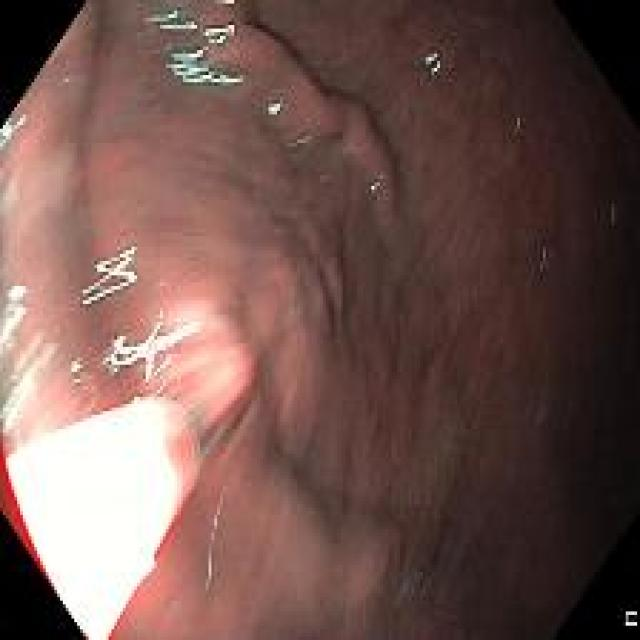blur: (3, 4, 561, 637)
color misalignment: (624, 610, 638, 626)
contrast: (582, 66, 634, 584), (488, 539, 635, 637)
instrument: (1, 354, 259, 640)
saturation: (5, 392, 178, 638)
specularity: (103, 311, 202, 383), (82, 246, 137, 306), (166, 50, 245, 85), (1, 362, 34, 438), (143, 9, 196, 32), (0, 304, 26, 350), (0, 115, 27, 149), (202, 21, 236, 46), (423, 50, 441, 75), (6, 284, 27, 300), (68, 358, 84, 374), (267, 102, 283, 116), (370, 182, 380, 192), (73, 378, 81, 386)
